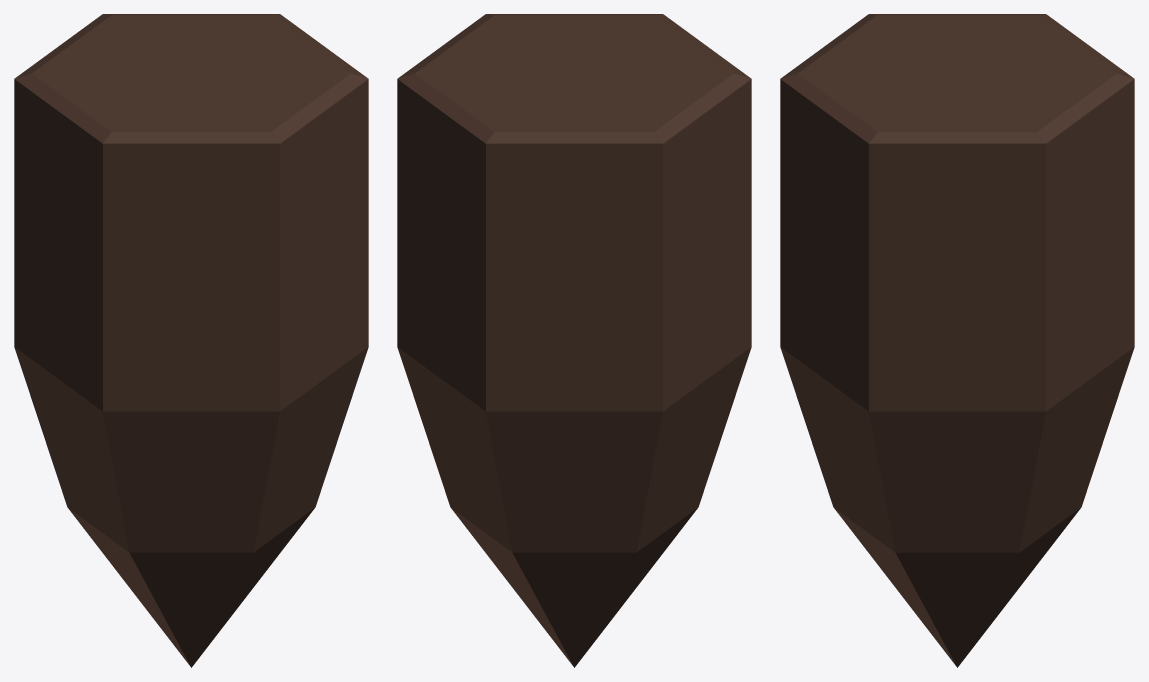
The model's file is Ground.fbx.
3 renders of one model, left to right at view 1: azimuth 30°, elevation 25°; view 2: azimuth 150°, elevation 25°; view 3: azimuth 270°, elevation 25°, orthographic.
Parts seen in each view (by area): view 1: Cylinder_LP; view 2: Cylinder_LP; view 3: Cylinder_LP.
Boxes of the visible parts, left/top/right/bottom form: Cylinder_LP: left=14, top=14, right=368, bottom=667; Cylinder_LP: left=397, top=14, right=751, bottom=667; Cylinder_LP: left=780, top=14, right=1134, bottom=667.
Bounding box in the file's own units: 520 × 1110 × 600.
